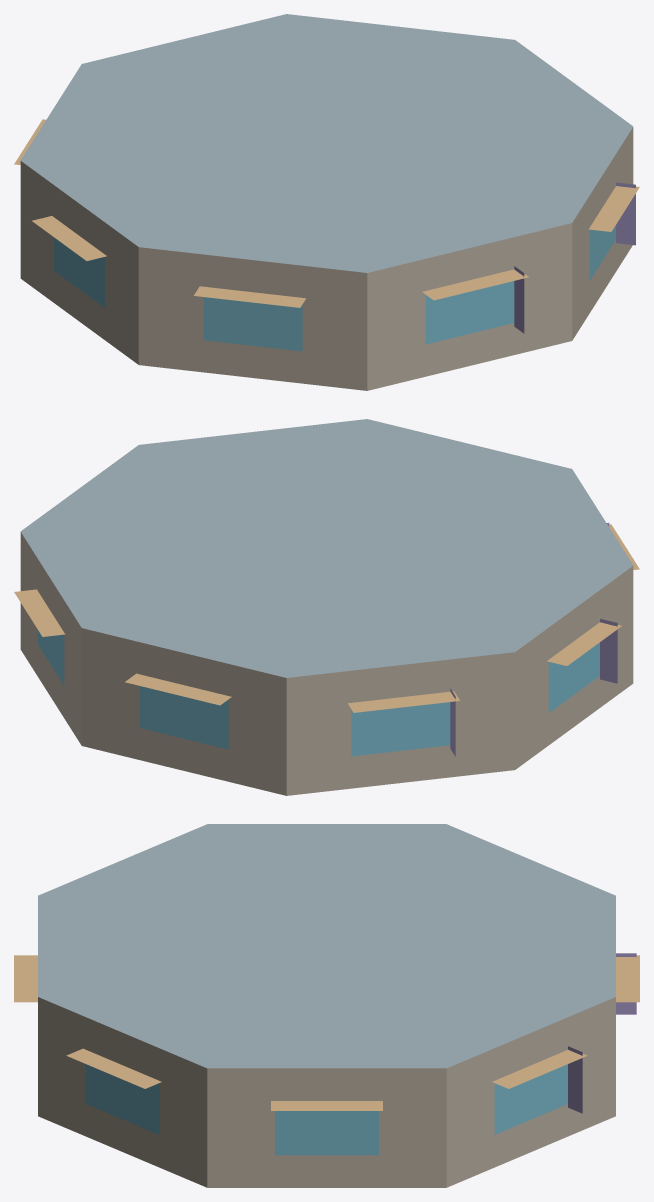
Rendered from building.glb.
The picture shows the model from 3 angles, top to bottom: view 1: azimuth 30°, elevation 25°; view 2: azimuth 150°, elevation 25°; view 3: azimuth 270°, elevation 25°; orthographic projection.
Visible parts, largest first — view 1: ROOF_04, ROOF_08, ROOF_03, ROOF_07, ROOF_05, ROOF_01, ROOF_02, ROOF_06, L01_SW_B01_WALL_1, L01_SW_B01_WALL_2, L01_S_B01_WALL_2, L01_S_B01_WALL_1 (+21 smaller); view 2: ROOF_02, ROOF_06, ROOF_03, ROOF_07, ROOF_01, ROOF_05, ROOF_04, ROOF_08, L01_NW_B01_WALL_2, L01_NW_B01_WALL_1, L01_N_B01_WALL_1, L01_N_B01_WALL_2 (+21 smaller); view 3: ROOF_06, ROOF_08, ROOF_03, ROOF_02, ROOF_04, ROOF_01, ROOF_05, ROOF_07, L01_E_B01_WALL_1, L01_E_B01_WALL_2, L01_SE_B01_WALL_1, L01_SE_B01_WALL_2 (+17 smaller).
Boxes of the visible parts, x1,y1,x2,y2 form: ROOF_04: (328,126,633,222); ROOF_08: (20,64,326,160); ROOF_03: (327,40,632,143); ROOF_07: (21,143,325,246); ROOF_05: (327,143,571,272); ROOF_01: (82,14,326,143); ROOF_02: (286,14,514,143); ROOF_06: (139,143,367,272); L01_SW_B01_WALL_1: (138,333,367,390); L01_SW_B01_WALL_2: (138,247,367,304); L01_S_B01_WALL_2: (367,223,572,304); L01_S_B01_WALL_1: (367,309,572,390); ROOF_02: (20,531,325,627); ROOF_06: (327,469,633,565); ROOF_03: (21,445,326,548); ROOF_07: (328,548,632,651); ROOF_01: (82,548,326,677); ROOF_05: (327,419,571,548); ROOF_04: (139,419,367,548); ROOF_08: (286,548,514,677); L01_NW_B01_WALL_2: (286,652,515,709); L01_NW_B01_WALL_1: (286,738,515,795); L01_N_B01_WALL_1: (81,714,286,795); L01_N_B01_WALL_2: (81,628,286,709); ROOF_06: (38,824,326,946); ROOF_08: (327,824,615,946); ROOF_03: (208,946,445,1068); ROOF_02: (327,946,615,1068); ROOF_04: (38,946,326,1068); ROOF_01: (328,895,615,996); ROOF_05: (38,895,325,996); ROOF_07: (207,824,446,945); L01_E_B01_WALL_1: (207,1155,446,1187); L01_E_B01_WALL_2: (207,1068,446,1100); L01_SE_B01_WALL_1: (38,1084,207,1187); L01_SE_B01_WALL_2: (38,997,207,1100).
Size of the model in its own units: 15.69 by 3.3 by 15.69.
